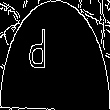P_S: (45, 29, 65, 81)
